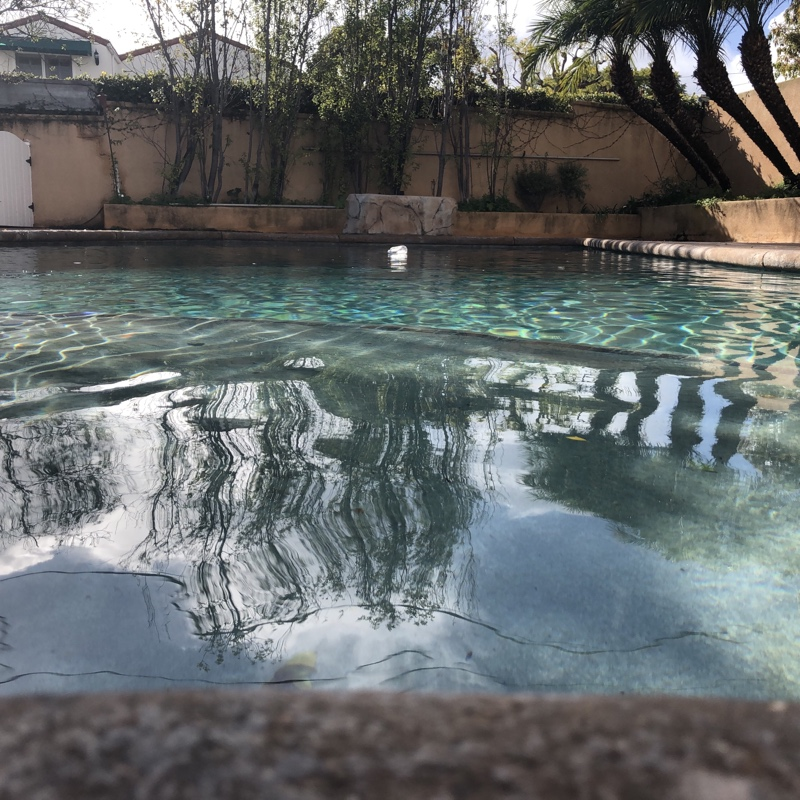Plastic Bottle: (385, 244, 407, 259)
